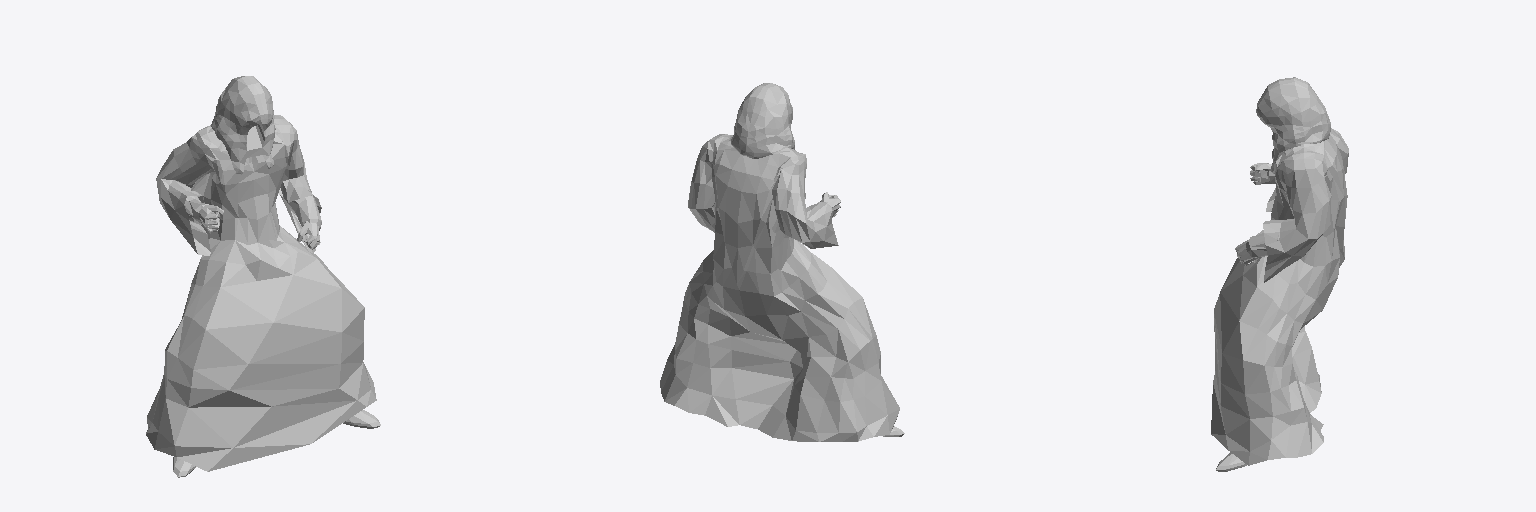
The model's file is Fellbeast_Animate_Flying_6.obj.
The picture shows the model from 3 angles: view 1: azimuth 30°, elevation 25°; view 2: azimuth 150°, elevation 25°; view 3: azimuth 270°, elevation 25°; orthographic projection.
Parts seen in each view (by area): view 1: dm_nazgulrobe_ride_241108; view 2: dm_nazgulrobe_ride_241108; view 3: dm_nazgulrobe_ride_241108.
Boxes of the visible parts, x1=… form: dm_nazgulrobe_ride_241108: x1=146, y1=76, x2=380, y2=477; dm_nazgulrobe_ride_241108: x1=660, y1=83, x2=904, y2=441; dm_nazgulrobe_ride_241108: x1=1211, y1=77, x2=1348, y2=471.
Bounding box in the file's own units: 0.442 × 0.6637 × 0.2366.